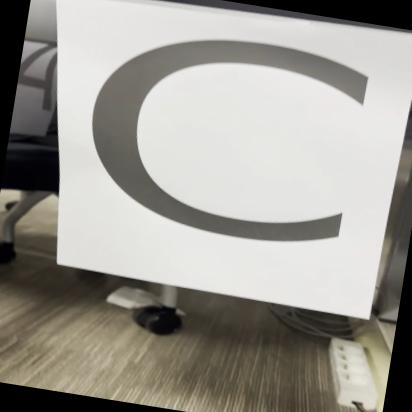seat: (0, 0, 412, 331)
